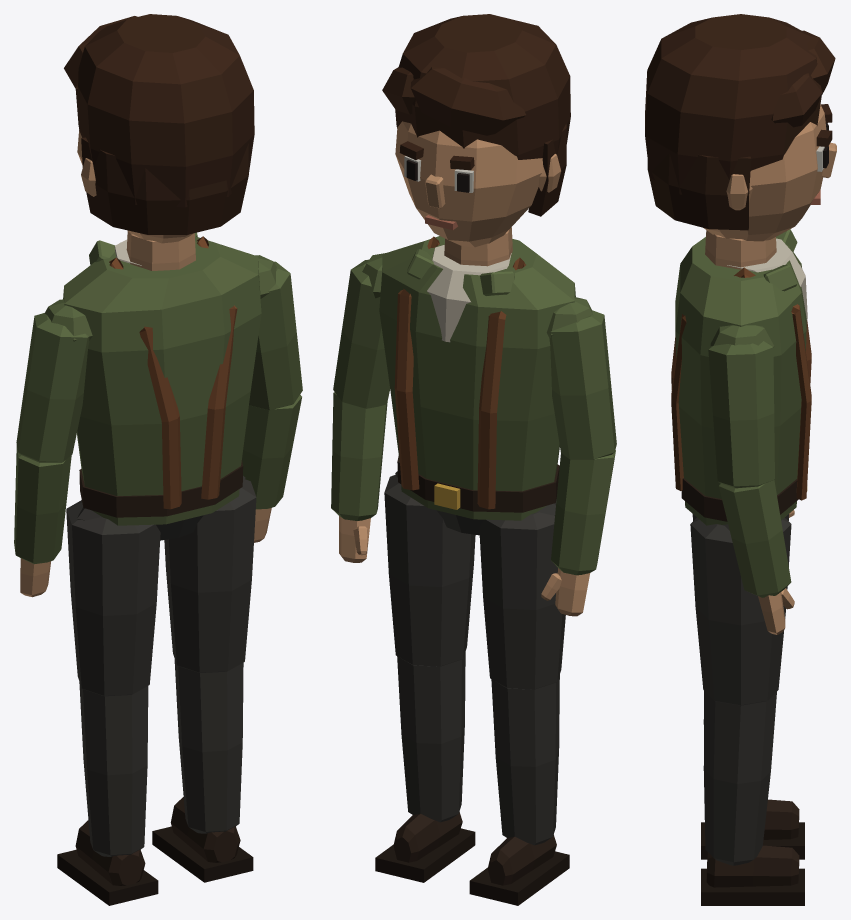
File: chr_paul.glb
3 views of the same model, side by side, from view 1: azimuth 30°, elevation 25°; view 2: azimuth 150°, elevation 25°; view 3: azimuth 270°, elevation 25° (orthographic).
Visible parts, largest first — view 1: chr_paul_stand; view 2: chr_paul_stand; view 3: chr_paul_stand.
Boxes of the visible parts, x1,y1,x2,y2 form: chr_paul_stand: (14,14,302,905); chr_paul_stand: (331,14,616,905); chr_paul_stand: (645,14,836,905).
Bounding box in the file's own units: 0.6064 × 1.75 × 0.3629.
